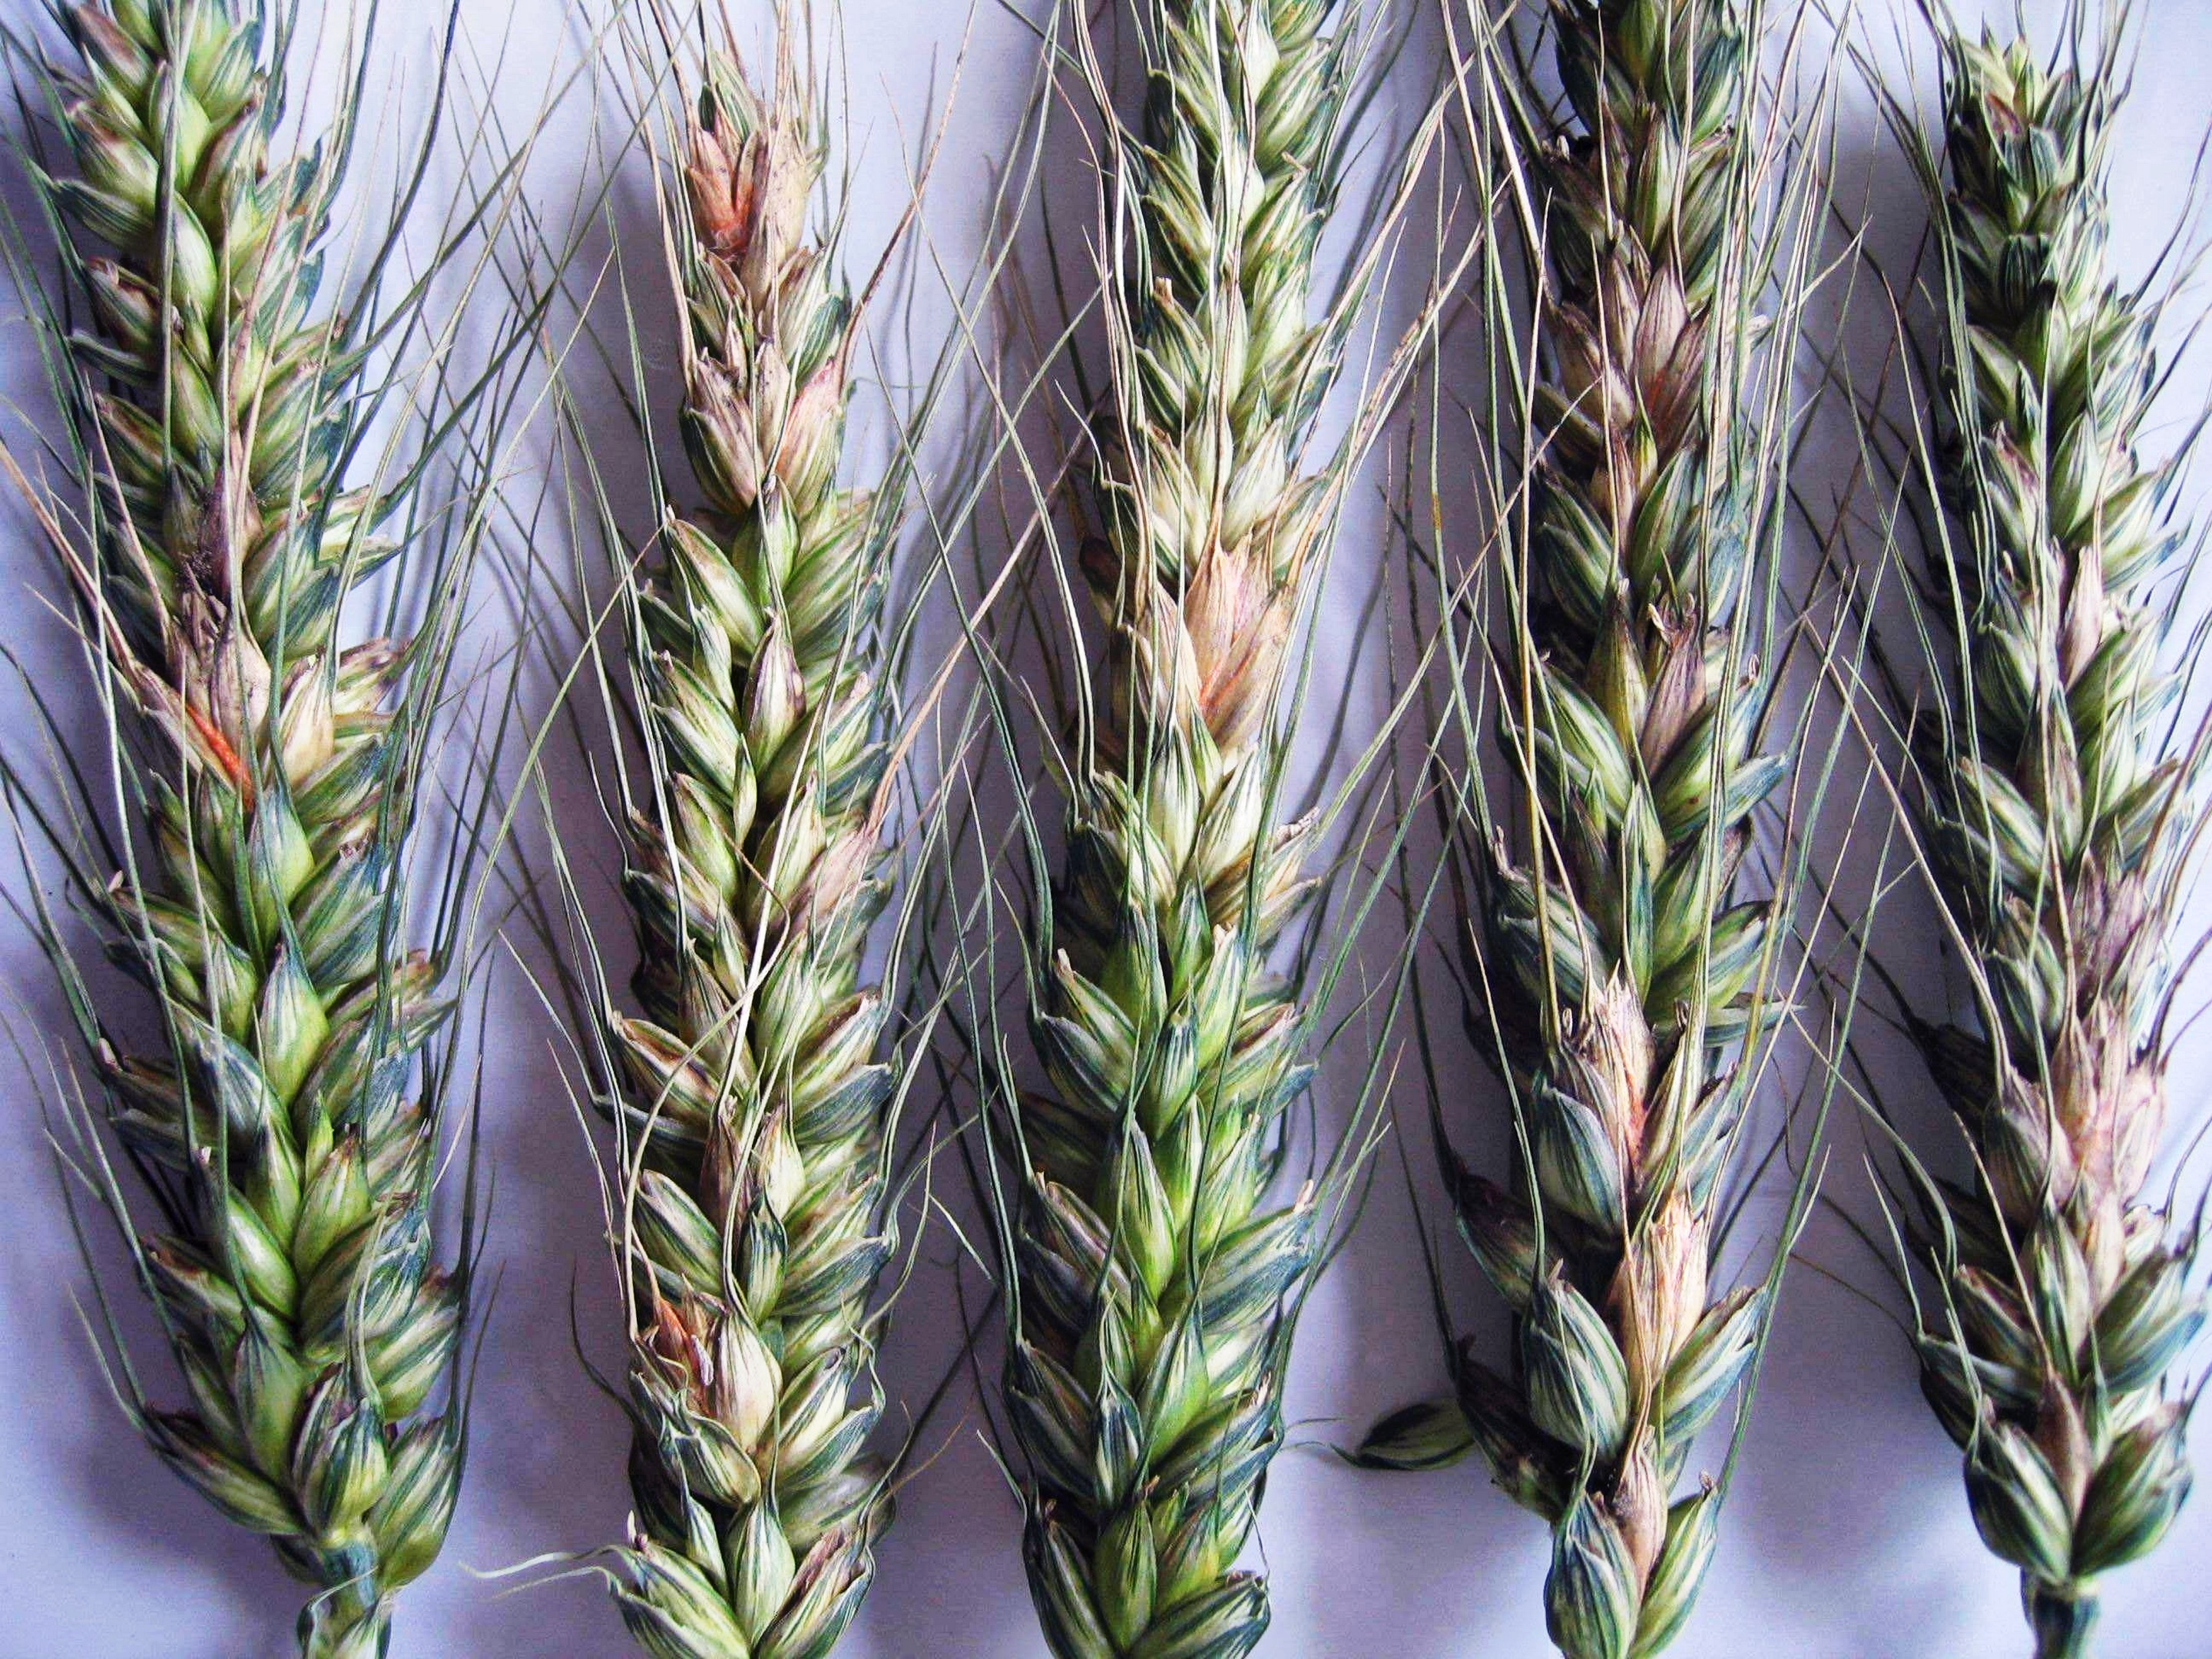Wheat scab: (1426, 44, 1808, 1659), (557, 96, 934, 1659), (1015, 26, 1331, 1659), (1911, 98, 2212, 1619)
